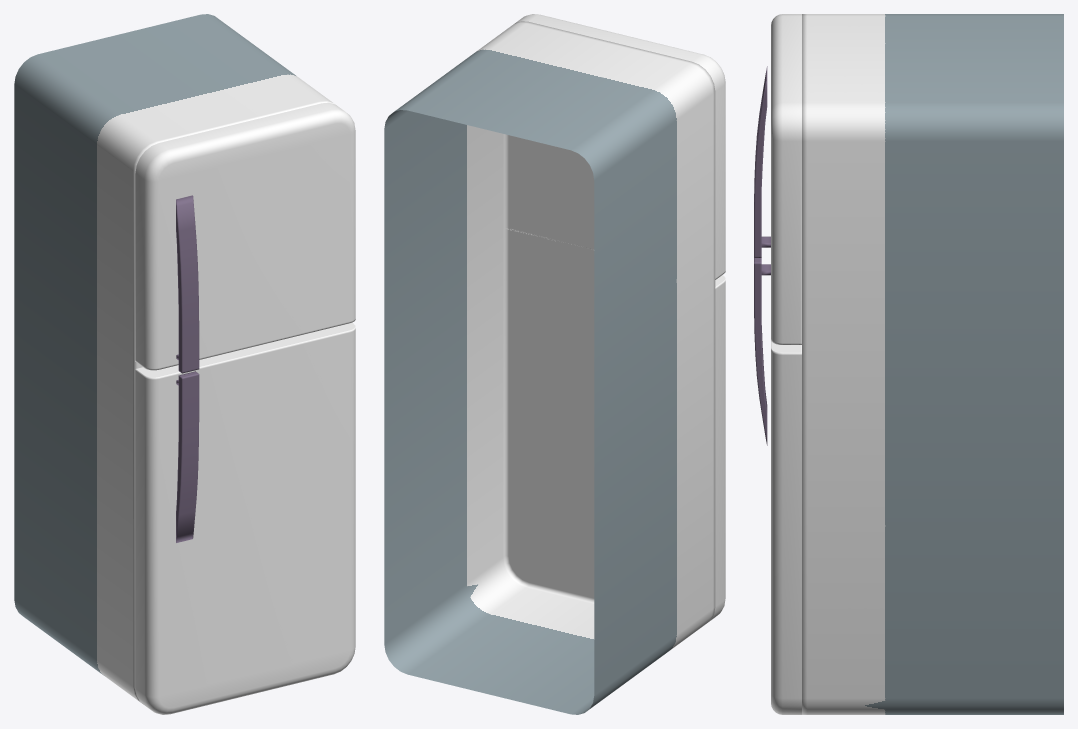
Rendered from Fridge.fbx.
3 views of the same model, side by side, from view 1: azimuth 30°, elevation 25°; view 2: azimuth 150°, elevation 25°; view 3: azimuth 270°, elevation 25° (orthographic). The views are drawn at different scales.
Parts seen in each view (by area): view 1: Doors, Body, Handles; view 2: Body, Doors; view 3: Body, Doors, Handles.
Boxes of the visible parts, left/top/right/bottom form: Doors: left=135, top=102, right=355, bottom=714; Body: left=14, top=14, right=334, bottom=703; Handles: left=176, top=195, right=199, bottom=542; Body: left=384, top=21, right=715, bottom=714; Doors: left=506, top=14, right=725, bottom=621; Body: left=802, top=14, right=1063, bottom=714; Doors: left=771, top=14, right=801, bottom=714; Handles: left=754, top=66, right=770, bottom=445.
Bounding box in the file's own units: 200 × 514 × 237.
